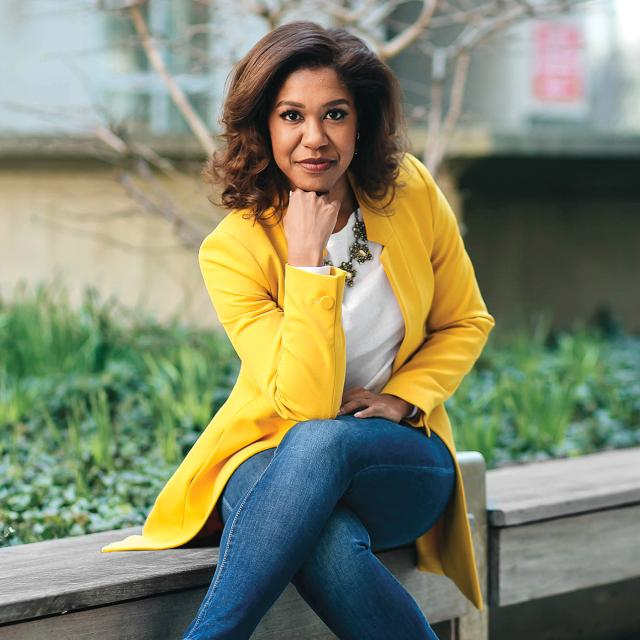sem_oculos: (256, 92, 366, 126)
